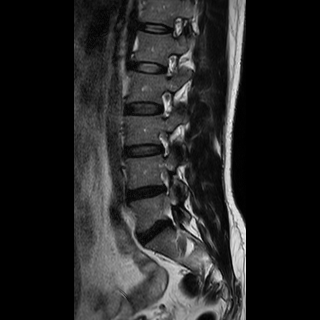RFS0: (151, 85, 178, 122), (159, 46, 184, 84), (151, 124, 176, 161)
